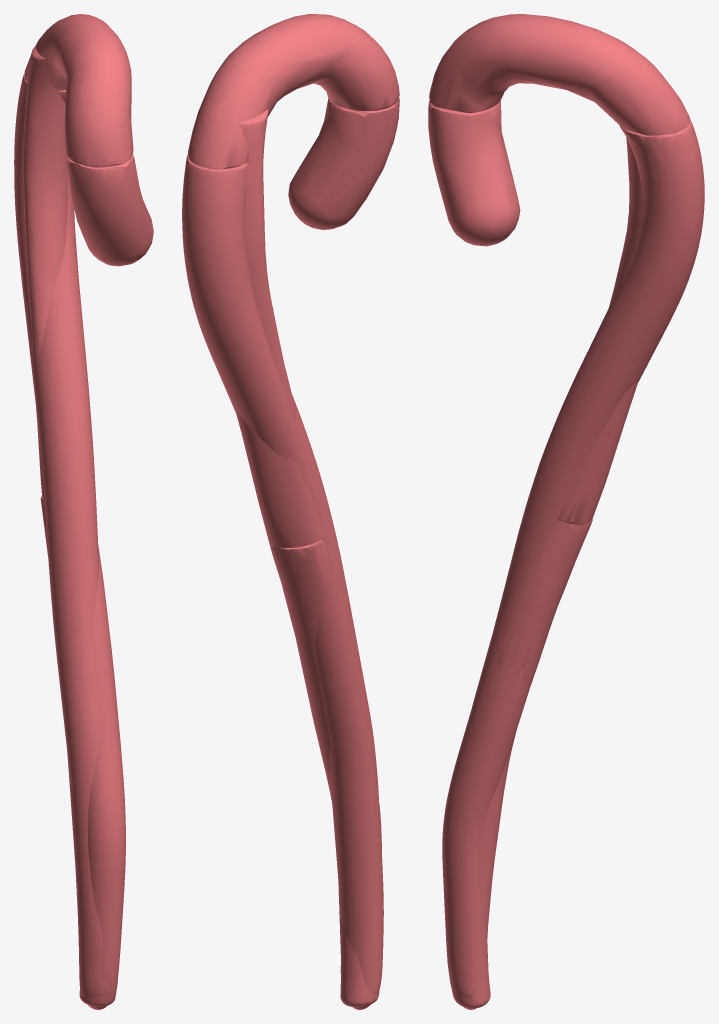
The model's file is male-classified-vessels.glb.
3 views of the same model, side by side, from view 1: azimuth 30°, elevation 25°; view 2: azimuth 150°, elevation 25°; view 3: azimuth 270°, elevation 25° (orthographic). The views are drawn at different scales.
Visible parts, largest first — view 1: FMA3734; view 2: FMA3734; view 3: FMA3734.
Boxes of the visible parts, x1,y1,x2,y2 form: FMA3734: (14, 14, 153, 1009); FMA3734: (182, 14, 399, 1009); FMA3734: (428, 14, 704, 1009).
Size of the model in its own units: 0.0417 by 0.3703 by 0.0924.
